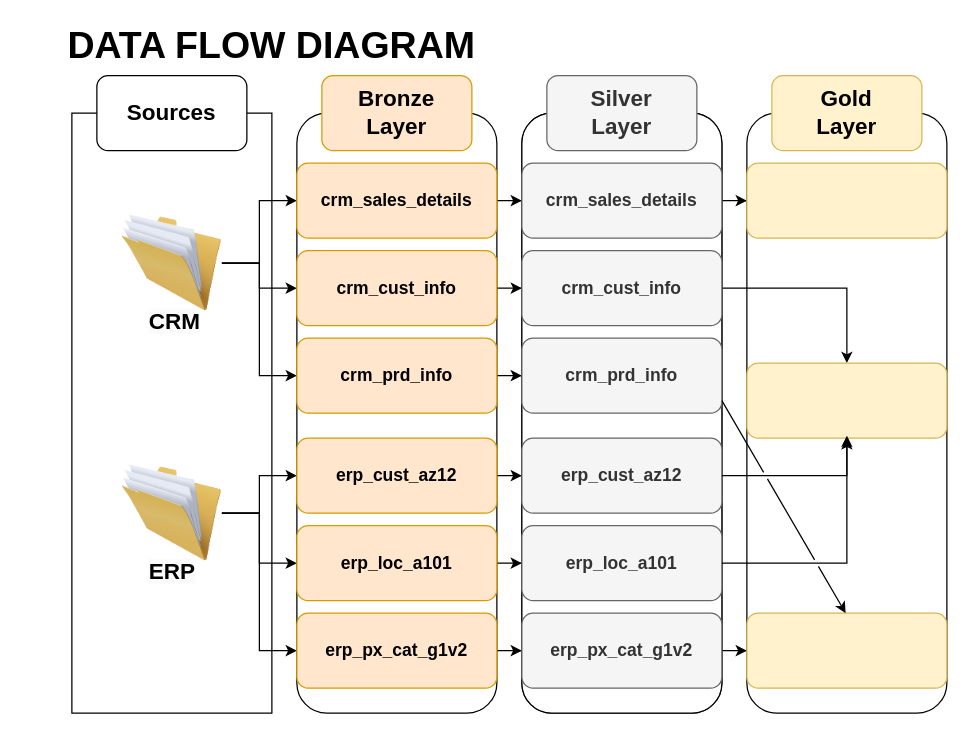
Image size: 969x735. Some labels were removed from this diagram. The box of each missing label's shape, as (x1, y1, x2, y2) in pixels:
dim_customers: (746, 362, 947, 438)
dim_products: (746, 612, 947, 688)
fact_sales: (746, 162, 947, 238)
